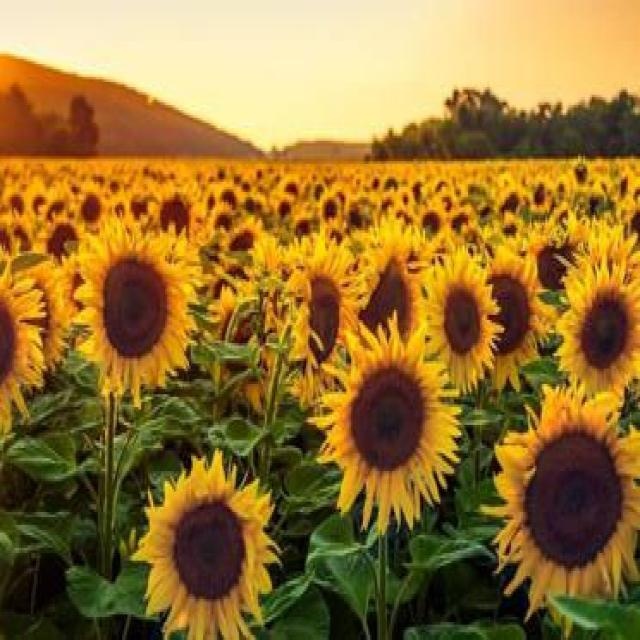sunflower: (483, 386, 640, 630), (322, 333, 468, 543), (126, 448, 282, 640), (74, 218, 198, 412), (554, 250, 640, 403), (415, 240, 499, 396), (348, 208, 428, 359), (294, 237, 361, 416), (476, 251, 544, 392), (0, 265, 48, 442), (37, 207, 85, 274), (215, 210, 265, 266), (151, 190, 195, 250), (74, 184, 105, 241), (416, 200, 448, 246), (446, 196, 476, 242), (316, 184, 345, 228), (218, 180, 244, 222), (570, 155, 594, 188), (6, 184, 28, 218), (290, 214, 314, 242), (381, 166, 398, 200), (280, 177, 302, 200), (397, 185, 413, 212)
